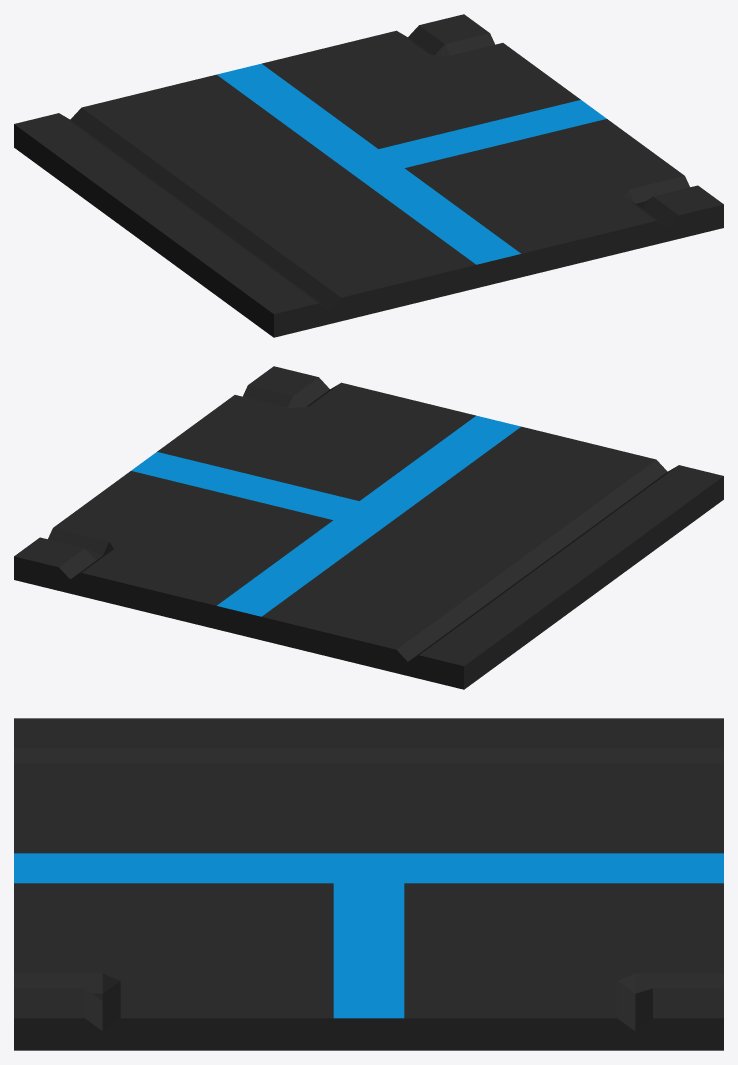
File: T-Junction Floor.fbx
3 views of the same model, one above another, from view 1: azimuth 30°, elevation 25°; view 2: azimuth 150°, elevation 25°; view 3: azimuth 270°, elevation 25° (orthographic). The views are drawn at different scales.
Parts seen in each view (by area): view 1: T-Junction Flooring.001; view 2: T-Junction Flooring.001; view 3: T-Junction Flooring.001.
Boxes of the visible parts, <box> form: T-Junction Flooring.001: <box>14,14,723,337</box>; T-Junction Flooring.001: <box>14,366,723,689</box>; T-Junction Flooring.001: <box>14,718,723,1050</box>.
Size of the model in its own units: 5 by 0.25 by 5.
